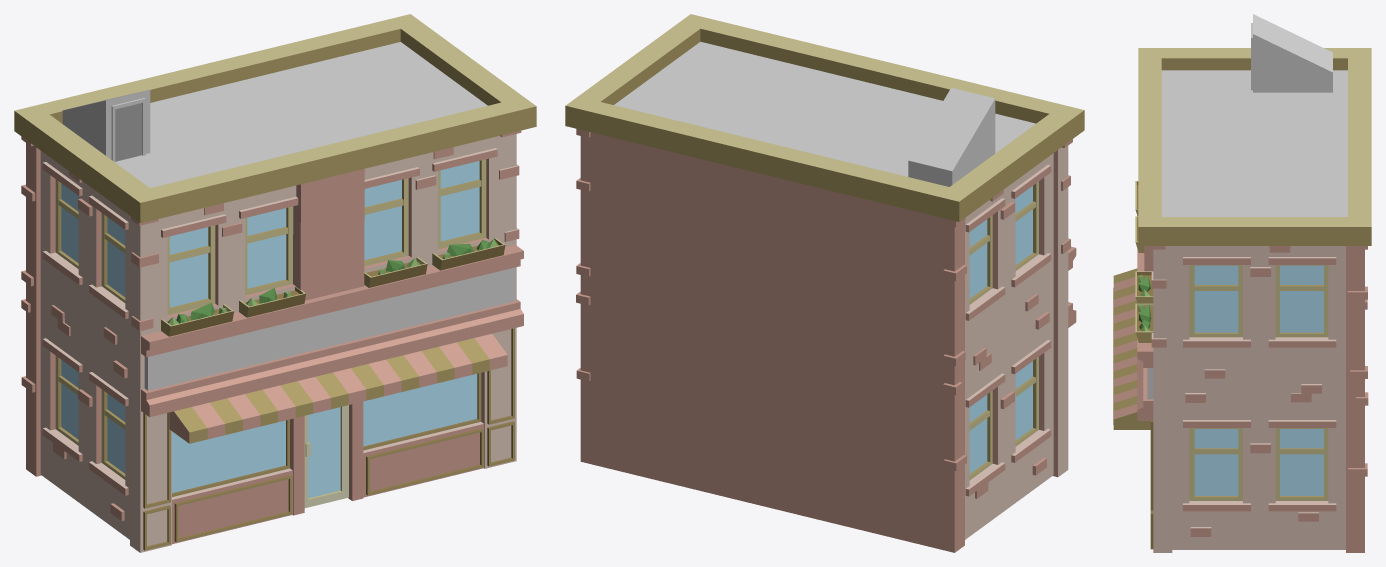
File: house_small_2_004.glb
3 renders of one model, left to right at view 1: azimuth 30°, elevation 25°; view 2: azimuth 150°, elevation 25°; view 3: azimuth 270°, elevation 25°, orthographic. The views are drawn at different scales.
Visible parts, largest first — view 1: house_small_2_004; view 2: house_small_2_004; view 3: house_small_2_004.
Part boxes in pixels (x1=…): house_small_2_004: x1=14, y1=14, x2=536, y2=552; house_small_2_004: x1=565, y1=14, x2=1084, y2=552; house_small_2_004: x1=1113, y1=14, x2=1371, y2=552.
Bounding box in the file's own units: 7.24 × 7.13 × 4.41.
Materials: 1 (1 with a texture image).
